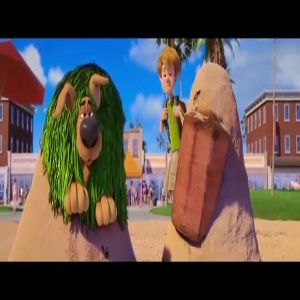Scooby: (59, 74, 113, 167)
Shagy: (148, 45, 185, 102)
